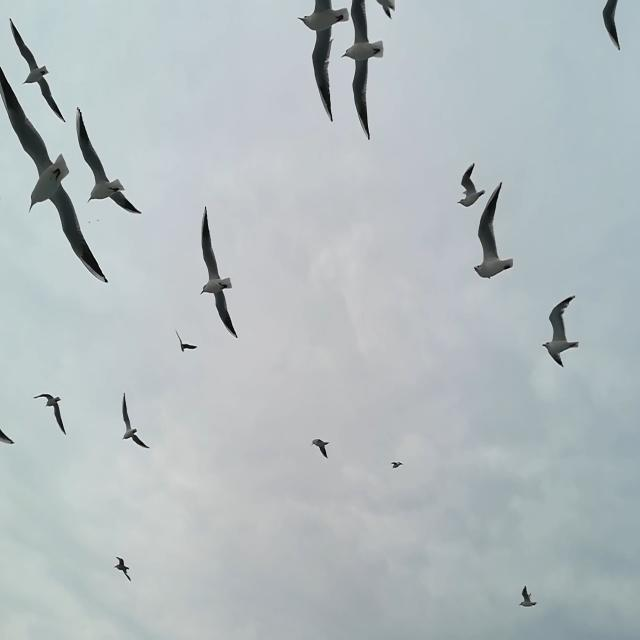bird: (0, 64, 108, 284), (75, 105, 145, 217), (297, 0, 350, 125), (340, 0, 387, 140), (8, 17, 68, 125), (200, 206, 238, 338), (473, 183, 516, 279), (542, 293, 580, 367), (120, 391, 150, 449), (600, 1, 629, 51), (32, 394, 66, 436), (458, 163, 482, 208), (114, 555, 134, 583), (370, 1, 396, 21), (176, 331, 200, 352), (518, 585, 537, 608), (310, 439, 330, 459), (0, 421, 15, 447), (390, 461, 405, 470), (96, 218, 100, 223), (88, 221, 90, 224)
